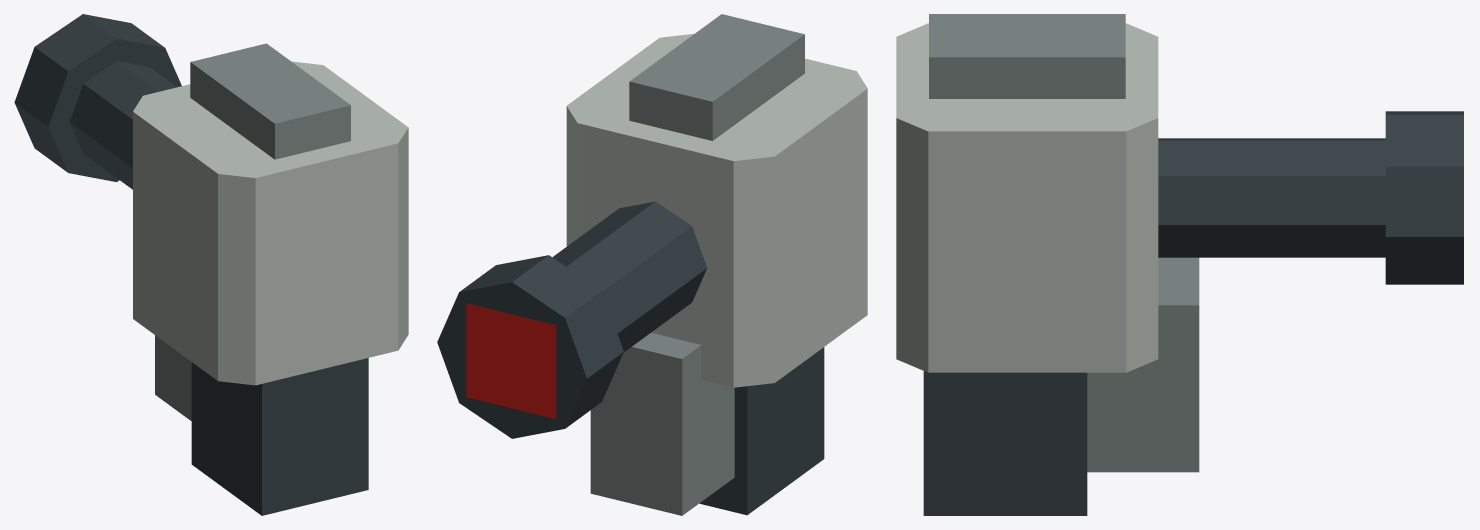
3 renders of one model, left to right at view 1: azimuth 30°, elevation 25°; view 2: azimuth 150°, elevation 25°; view 3: azimuth 270°, elevation 25°, orthographic. The views are drawn at different scales.
Parts seen in each view (by area): view 1: mount; view 2: mount; view 3: mount.
Part boxes in pixels (<box>): mount: <box>14,14,408,515</box>; mount: <box>437,14,867,515</box>; mount: <box>896,14,1463,515</box>.
Size of the model in its own units: 4.69 by 9.09 by 10.43.
